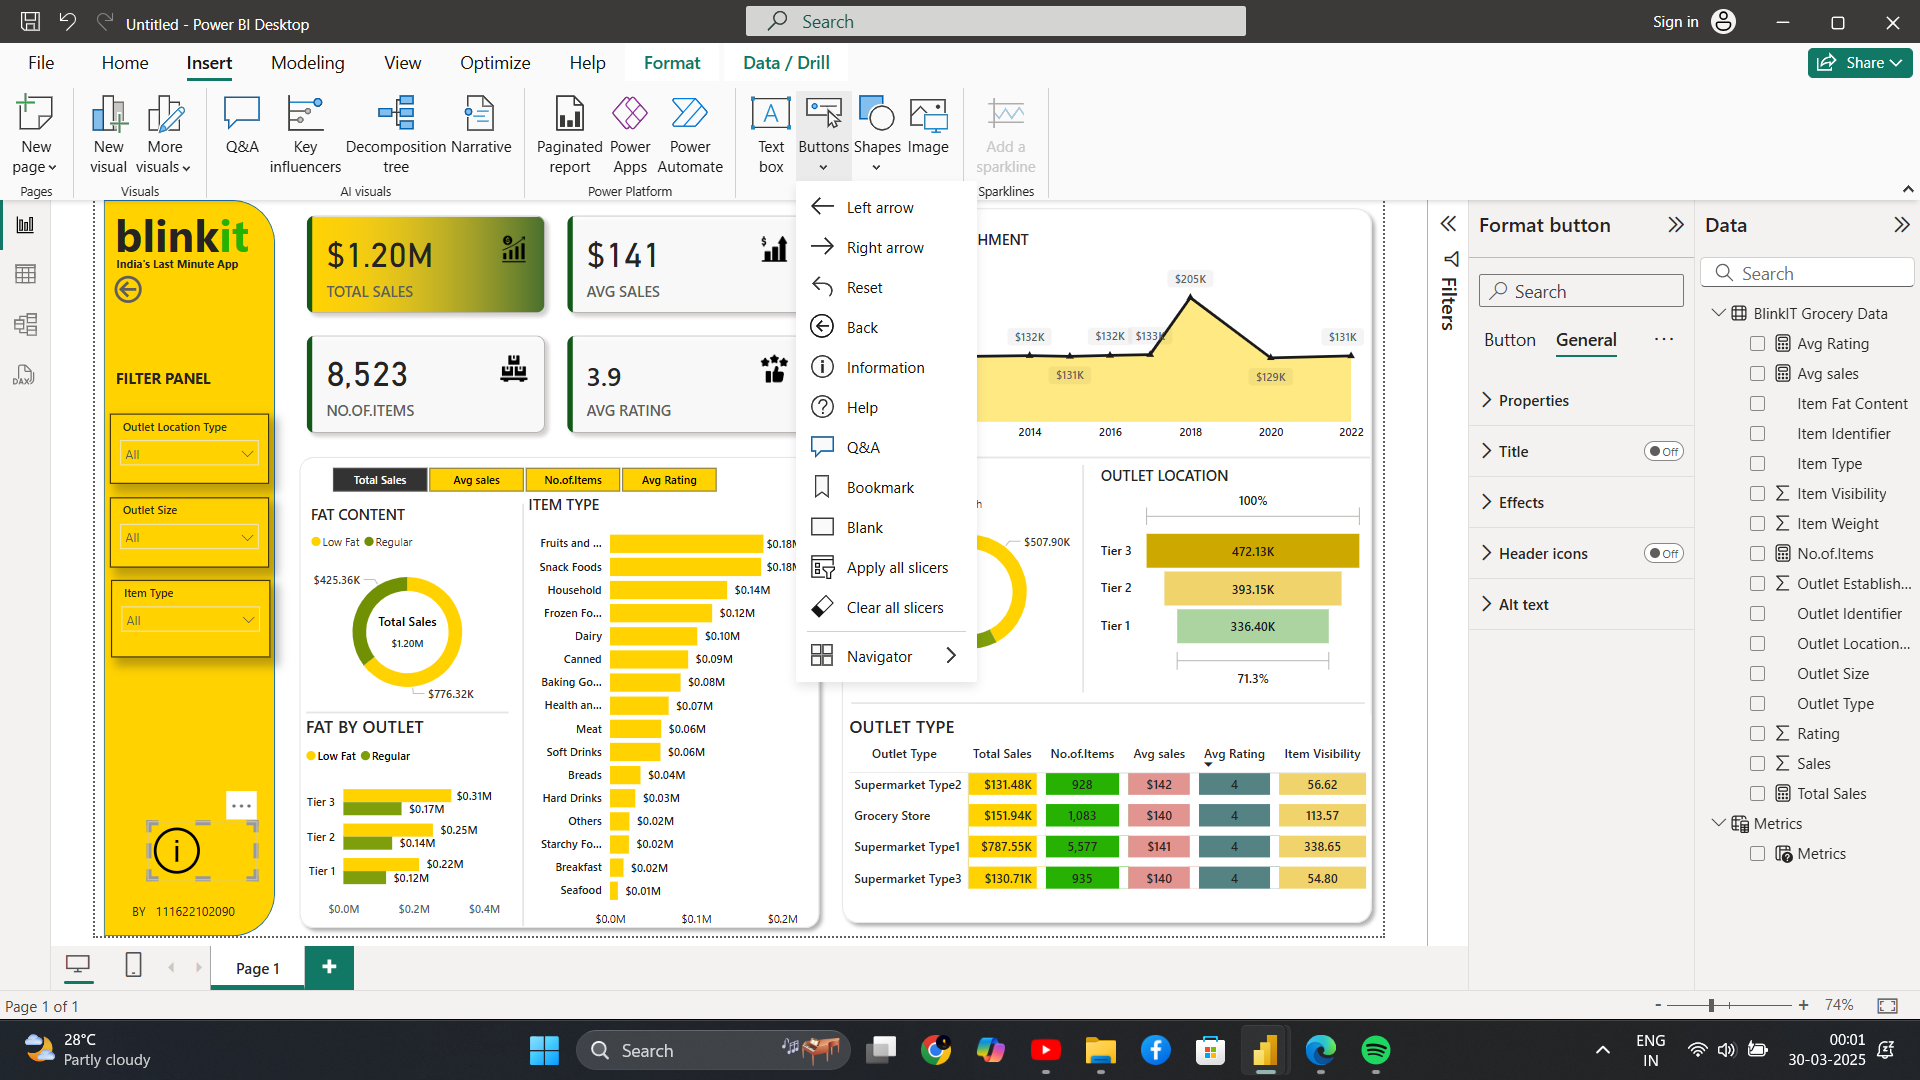

This screenshot's page, from the dashboard's own definition file:
{"tool":"powerbi","page":{"name":"Page 1","canvas":[1400,800],"ordinal":0},"visuals":[{"type":"shape","box":[9.5,0,186.1,800.3],"z":0},{"type":"textbox","box":[10,55,160,42],"z":1000},{"type":"cardVisual","fields":{"Data":["BlinkIT Grocery Data.Total Sales","BlinkIT Grocery Data.Avg sales","BlinkIT Grocery Data.No.of.Items","BlinkIT Grocery Data.Avg Rating"]},"box":[213.3,0,577.4,270.4],"z":2000},{"type":"shape","box":[213.3,270.4,582.9,529.9],"z":3000},{"type":"slicer","fields":{"Values":["Metrics.Metrics"]},"box":[232.3,284,467.4,35.3],"z":4000},{"type":"donutChart","title":"FAT CONTENT","fields":{"Y":["BlinkIT Grocery Data.Total Sales"],"Category":["BlinkIT Grocery Data.Item Fat Content"]},"box":[229.6,330.2,220.1,229.6],"z":5000},{"type":"cardVisual","fields":{"Data":["BlinkIT Grocery Data.Total Sales"]},"box":[263.6,429.4,152.2,78.8],"z":6000},{"type":"clusteredBarChart","title":"FAT BY OUTLET","fields":{"Y":["BlinkIT Grocery Data.Total Sales"],"Category":["BlinkIT Grocery Data.Outlet Location Type"],"Series":["BlinkIT Grocery Data.Item Fat Content"]},"box":[224.2,559.8,229.6,229.6],"z":7000},{"type":"shape","box":[229.6,508.2,220.1,97.8],"z":8000},{"type":"shape","box":[410.3,330.2,110.1,459.2],"z":9000},{"type":"barChart","title":"ITEM TYPE","fields":{"Y":["BlinkIT Grocery Data.Total Sales"],"Category":["BlinkIT Grocery Data.Item Type"]},"box":[466,319.3,324.7,481],"z":10000},{"type":"shape","box":[803,0,593.8,794.8],"z":11000},{"type":"lineChart","title":"OUTLET ESTABLISHMENT","fields":{"Y":["BlinkIT Grocery Data.Total Sales"],"Category":["BlinkIT Grocery Data.Outlet Establishment Year"]},"box":[826.1,31.3,558.4,239.1],"z":12000},{"type":"shape","box":[827.5,130.4,558.4,298.9],"z":13000},{"type":"donutChart","title":"OUTLET SIZE","fields":{"Y":["BlinkIT Grocery Data.Total Sales"],"Category":["BlinkIT Grocery Data.Outlet Size"]},"box":[813.9,288,274.5,225.5],"z":14000},{"type":"shape","box":[1019,288,110.1,247.3],"z":15000},{"type":"funnel","title":"OUTLET LOCATION","fields":{"Y":["Sum(BlinkIT Grocery Data.Sales)"],"Category":["BlinkIT Grocery Data.Outlet Location Type"]},"box":[1088.3,288,296.2,247.3],"z":16000},{"type":"shape","box":[822,497.3,558.4,99.2],"z":17000},{"type":"pivotTable","title":"OUTLET TYPE","fields":{"Rows":["BlinkIT Grocery Data.Outlet Type"],"Values":["BlinkIT Grocery Data.Total Sales","BlinkIT Grocery Data.No.of.Items","BlinkIT Grocery Data.Avg sales","BlinkIT Grocery Data.Avg Rating","Sum(BlinkIT Grocery Data.Item Visibility)"]},"box":[815.2,559.8,572,199.7],"z":18000},{"type":"slicer","fields":{"Values":["BlinkIT Grocery Data.Outlet Location Type"]},"box":[16.3,232.3,172.6,76.1],"z":19000},{"type":"slicer","fields":{"Values":["BlinkIT Grocery Data.Outlet Size"]},"box":[16.3,323.4,172.6,76.1],"z":20000},{"type":"slicer","fields":{"Values":["BlinkIT Grocery Data.Item Type"]},"box":[17.7,413,172.6,84.2],"z":21000},{"type":"textbox","box":[0,0,188.9,96.5],"z":22000},{"type":"textbox","box":[17.7,178,171.2,38],"z":23000},{"type":"textbox","box":[35.3,759.5,134.5,29.9],"z":24000},{"type":"actionButton","box":[53,514.9,100.5,65.2],"z":25000},{"type":"actionButton","box":[50.3,675.3,119.6,63.9],"z":26000},{"type":"actionButton","box":[39.4,606,100.5,39.4],"z":27000}]}

Visuals, with their boxes on the page's 1400x800 design canvas (x1, y1, x2, y2). These are canvas units, not pixel positions in the 1920x1080 screenshot, which may show the page scaled, cropped or inside an application window:
shape: pyautogui.locateOnScreen(10, 0, 196, 800)
textbox: pyautogui.locateOnScreen(10, 55, 170, 97)
cardVisual - BlinkIT Grocery Data.Total Sales x BlinkIT Grocery Data.Avg sales: pyautogui.locateOnScreen(213, 0, 791, 270)
shape: pyautogui.locateOnScreen(213, 270, 796, 800)
slicer - Metrics.Metrics: pyautogui.locateOnScreen(232, 284, 700, 319)
"FAT CONTENT" donutChart: pyautogui.locateOnScreen(230, 330, 450, 560)
cardVisual - BlinkIT Grocery Data.Total Sales: pyautogui.locateOnScreen(264, 429, 416, 508)
"FAT BY OUTLET" clusteredBarChart: pyautogui.locateOnScreen(224, 560, 454, 789)
shape: pyautogui.locateOnScreen(230, 508, 450, 606)
shape: pyautogui.locateOnScreen(410, 330, 520, 789)
"ITEM TYPE" barChart: pyautogui.locateOnScreen(466, 319, 791, 800)
shape: pyautogui.locateOnScreen(803, 0, 1397, 795)
"OUTLET ESTABLISHMENT" lineChart: pyautogui.locateOnScreen(826, 31, 1384, 270)
shape: pyautogui.locateOnScreen(828, 130, 1386, 429)
"OUTLET SIZE" donutChart: pyautogui.locateOnScreen(814, 288, 1088, 514)
shape: pyautogui.locateOnScreen(1019, 288, 1129, 535)
"OUTLET LOCATION" funnel: pyautogui.locateOnScreen(1088, 288, 1384, 535)
shape: pyautogui.locateOnScreen(822, 497, 1380, 596)
"OUTLET TYPE" pivotTable: pyautogui.locateOnScreen(815, 560, 1387, 760)
slicer - BlinkIT Grocery Data.Outlet Location Type: pyautogui.locateOnScreen(16, 232, 189, 308)
slicer - BlinkIT Grocery Data.Outlet Size: pyautogui.locateOnScreen(16, 323, 189, 400)
slicer - BlinkIT Grocery Data.Item Type: pyautogui.locateOnScreen(18, 413, 190, 497)
textbox: pyautogui.locateOnScreen(0, 0, 189, 96)
textbox: pyautogui.locateOnScreen(18, 178, 189, 216)
textbox: pyautogui.locateOnScreen(35, 760, 170, 789)
actionButton: pyautogui.locateOnScreen(53, 515, 154, 580)
actionButton: pyautogui.locateOnScreen(50, 675, 170, 739)
actionButton: pyautogui.locateOnScreen(39, 606, 140, 645)
